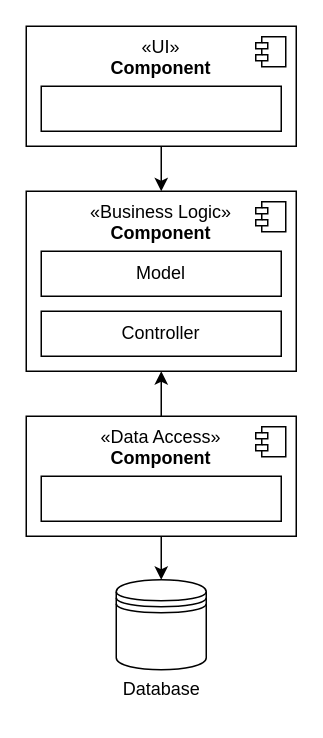
Image size: 323x738. Some labels were removed from this diagram. The shapes that lost their labels are listed below. From the top down, each one's centre as x and y in pixels, then its label:
pixel 160 108: View
pixel 160 498: Repository
